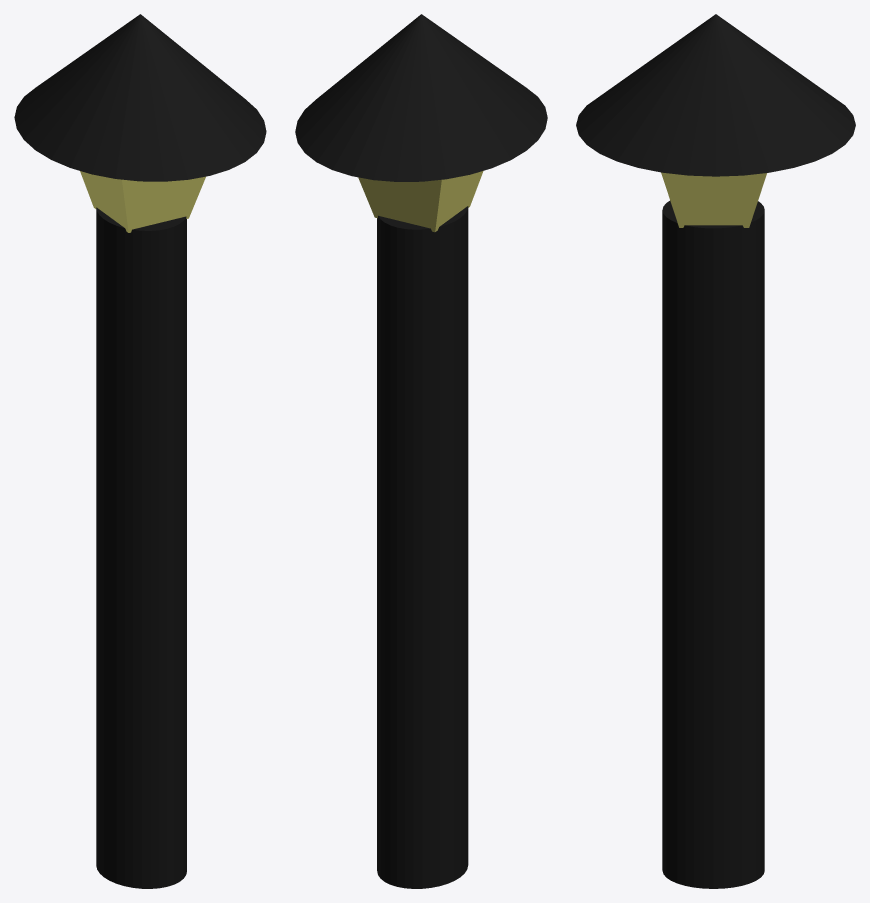
File: poste_luz.fbx
The picture shows the model from 3 angles, left to right: view 1: azimuth 30°, elevation 25°; view 2: azimuth 150°, elevation 25°; view 3: azimuth 270°, elevation 25°; orthographic projection.
Parts seen in each view (by area): view 1: poste, casco, luz; view 2: poste, casco, luz; view 3: poste, casco, luz.
Boxes of the visible parts, box(x1,y1,x2,y2) form: poste: box(96, 207, 186, 888); casco: box(14, 14, 266, 181); luz: box(80, 171, 205, 232); poste: box(377, 206, 468, 888); casco: box(295, 14, 547, 181); luz: box(358, 171, 483, 232); poste: box(662, 200, 764, 888); casco: box(576, 14, 855, 176); luz: box(661, 172, 766, 227).
Bounding box in the file's own units: 67.75 × 263 × 77.91.
